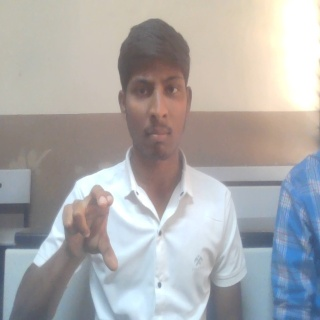Face: (116, 15, 194, 164)
No: (60, 182, 120, 275)
